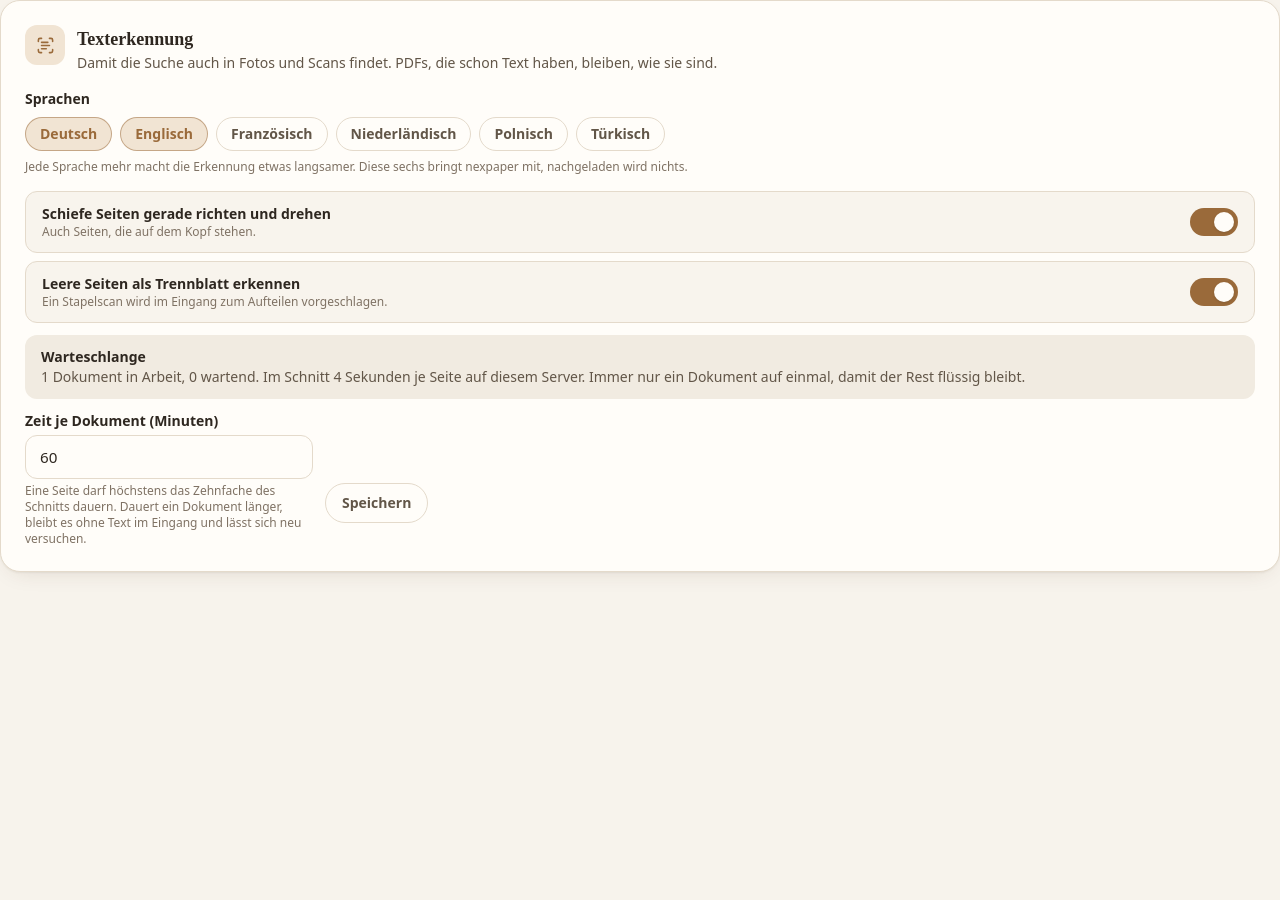
Test: the card of the text recognition › goes back to what the server has when saving fails
The width and height of the screenshot is (1280, 900).
Click the button "Türkisch" at coordinates (621, 134), box [576, 117, 665, 151]
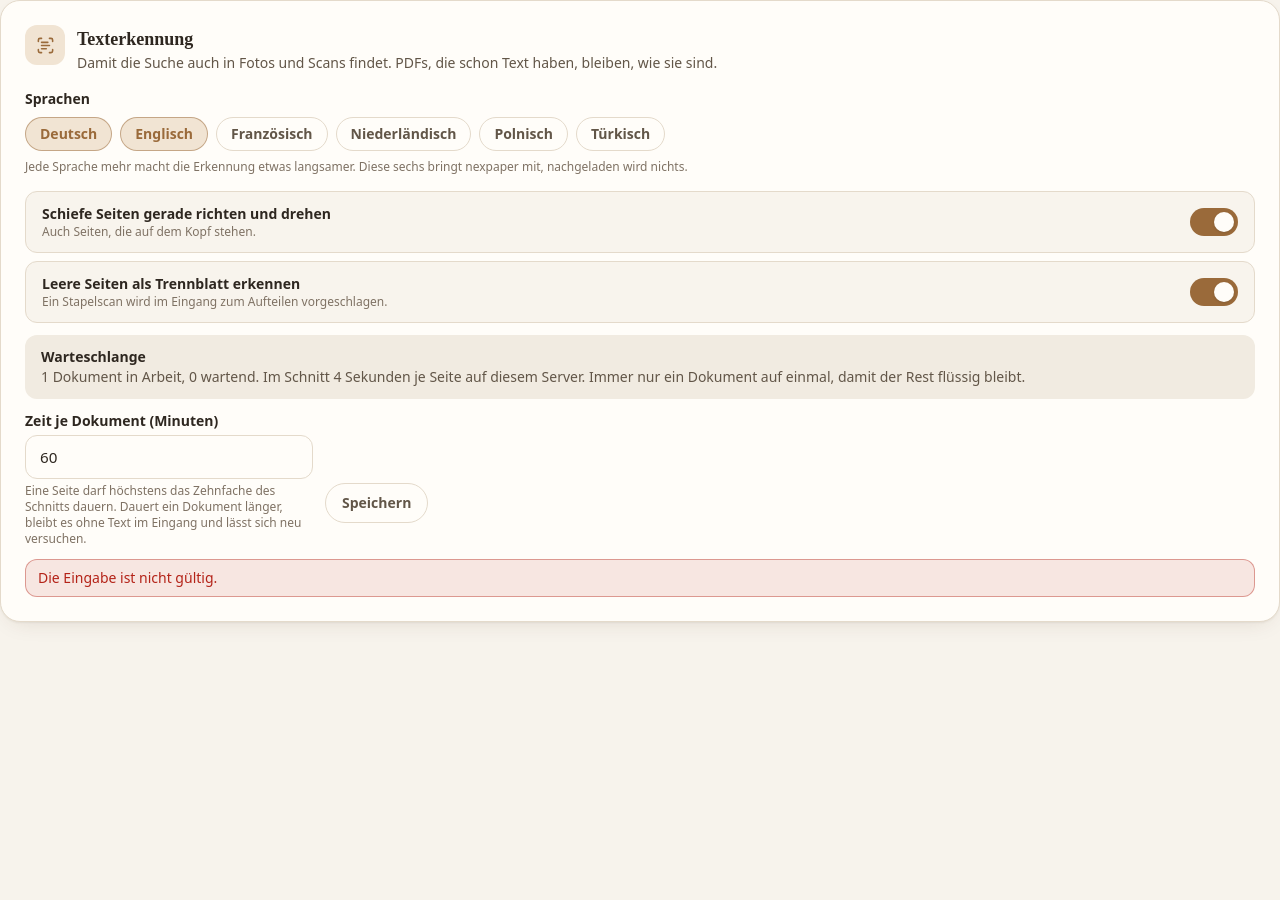
Check: the message "Die Eingabe ist nicht gültig." is shown, box [25, 559, 1255, 597]
